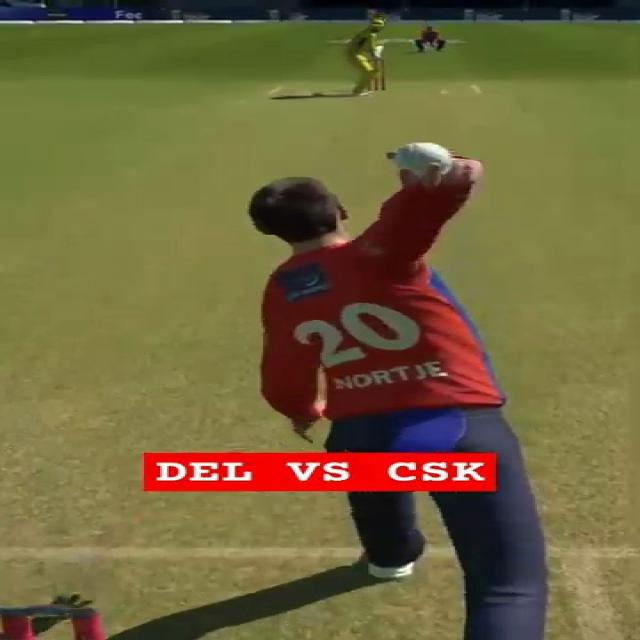ball: (386, 142, 459, 176)
